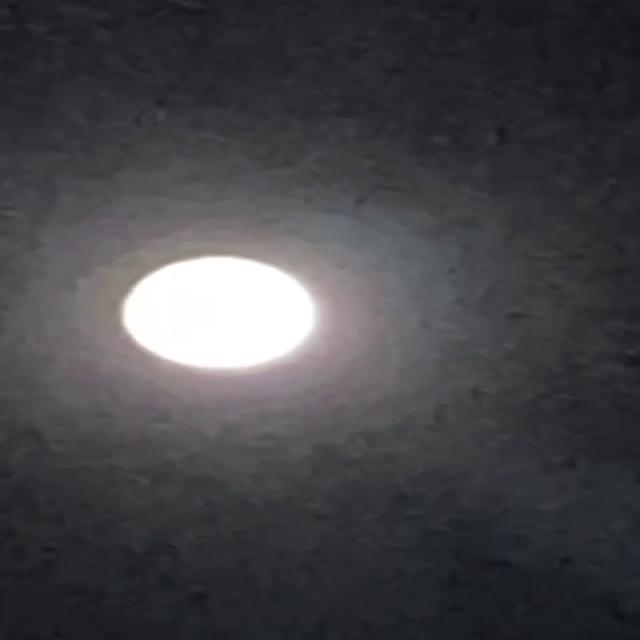moon: (112, 252, 338, 373)
